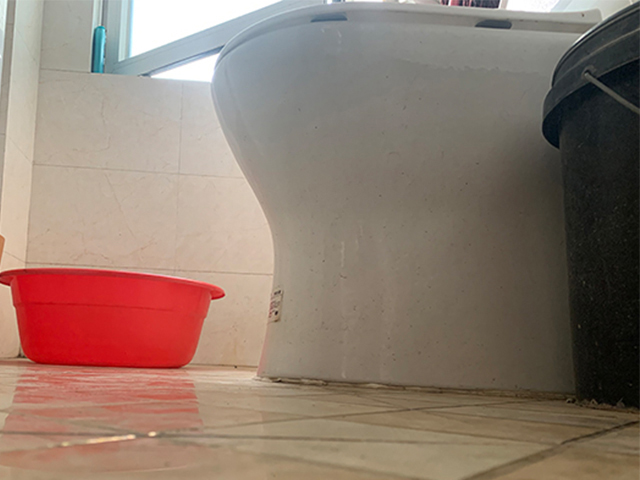closestool: (210, 1, 595, 397)
